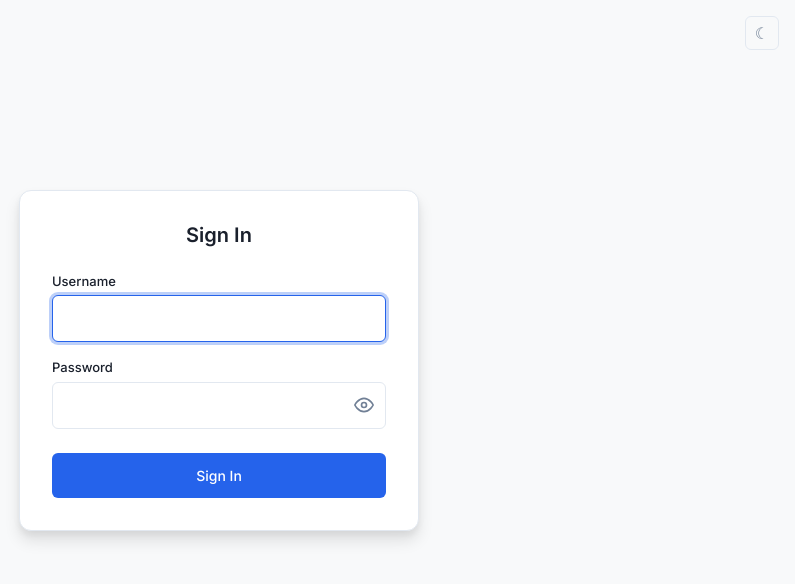
Scenario: Login › shows an error message when login rejects
Type "alice" into the field labelled "Username" at (219,318), box [52,295,386,342]
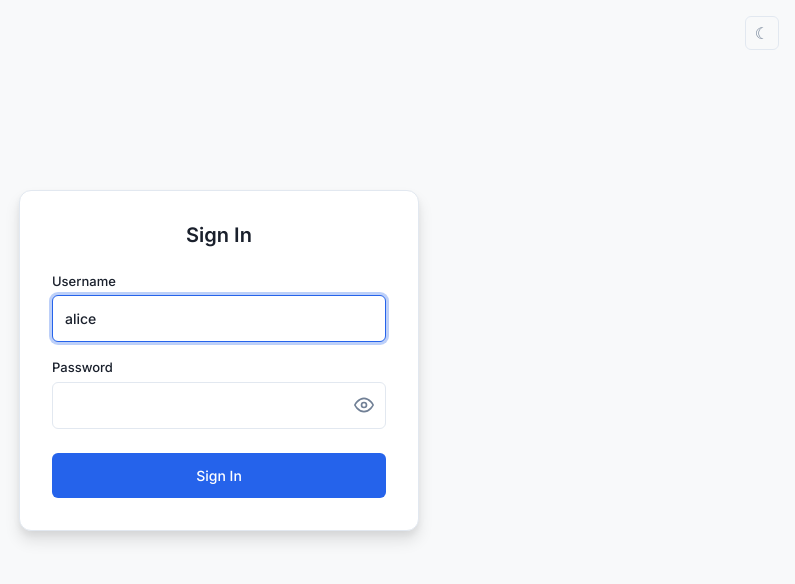
Type "wrong" into the password field labelled "Password" at (219,405), box [52,382,386,428]
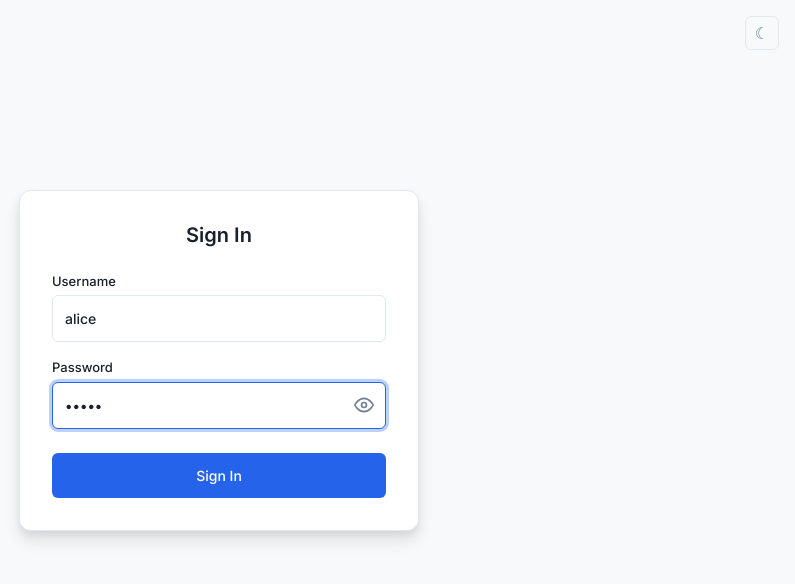
Click the button "Sign In" at (219,475), box [52,452,386,498]
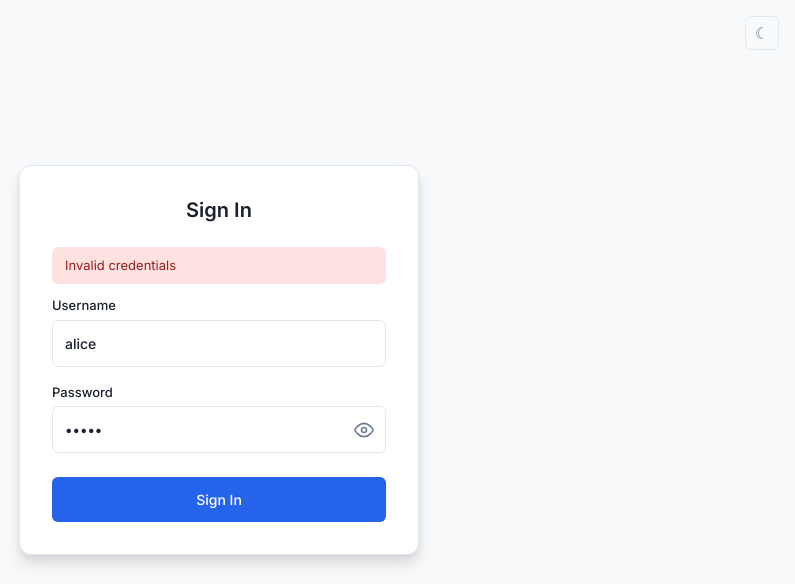
expect the message reads "Invalid credentials": met, box [65,257,176,273]
